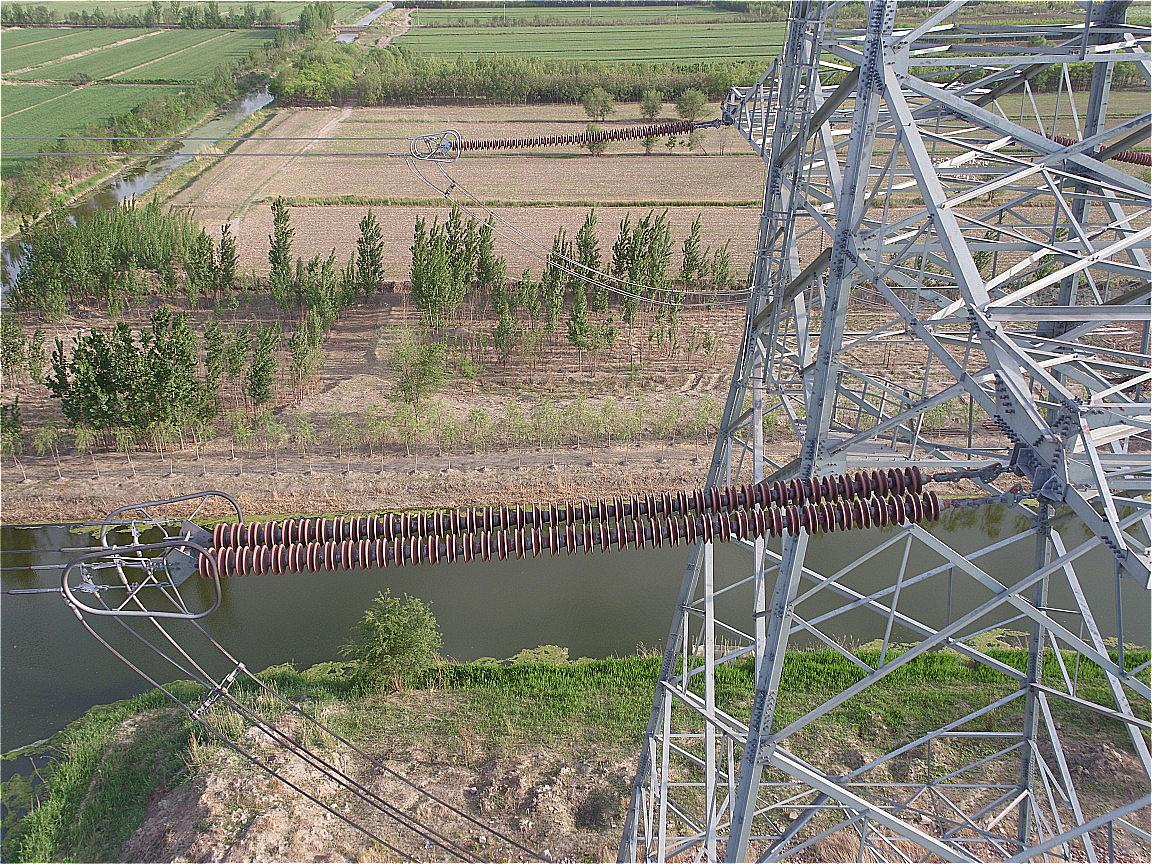insultor2: (192, 462, 952, 592)
